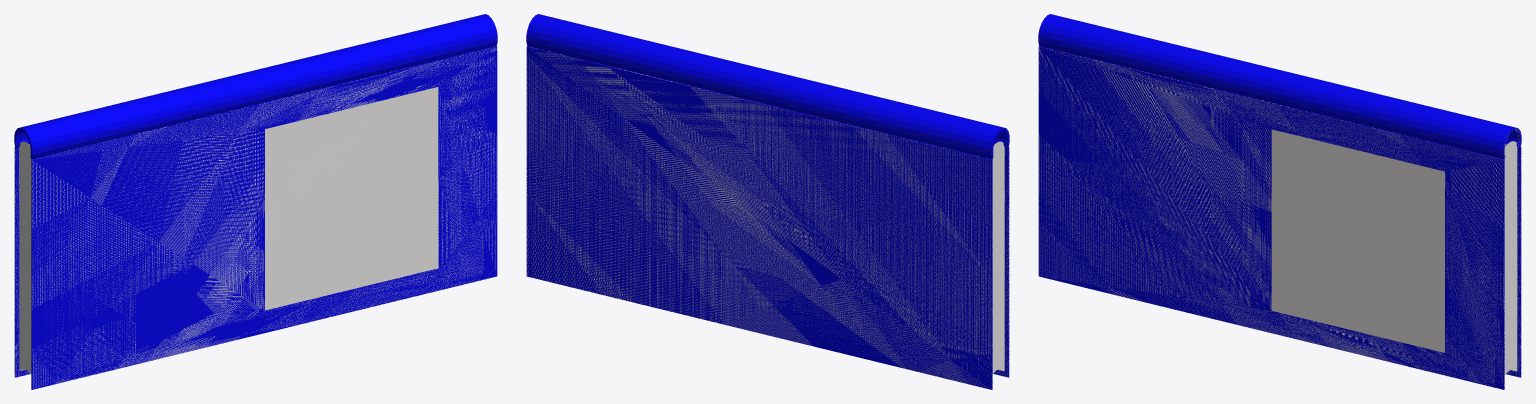
The picture shows the model from 3 angles, left to right: view 1: azimuth 30°, elevation 25°; view 2: azimuth 150°, elevation 25°; view 3: azimuth 330°, elevation 25°; orthographic projection.
Parts seen in each view (by area): view 1: book; view 2: book; view 3: book.
Boxes of the visible parts, <box> form: book: <box>14,14,497,389</box>; book: <box>526,14,1009,389</box>; book: <box>1038,14,1521,389</box>.
Size of the model in its own units: 519 by 272 by 35.26.
